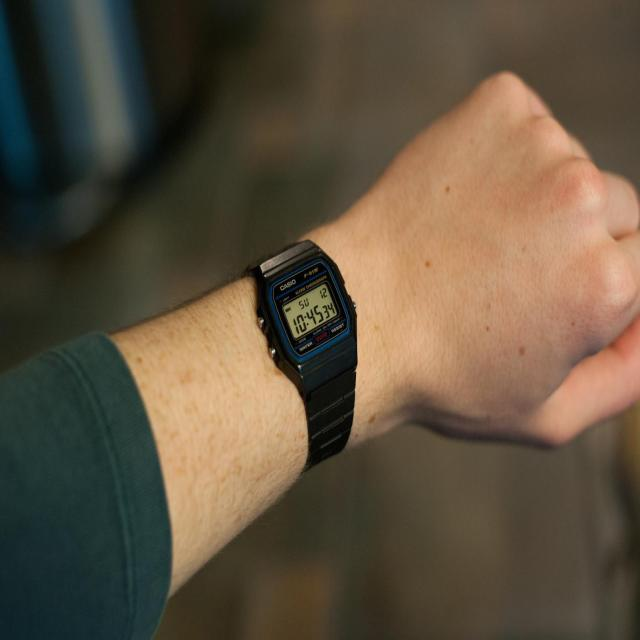Wrist watch: (244, 240, 358, 473)
